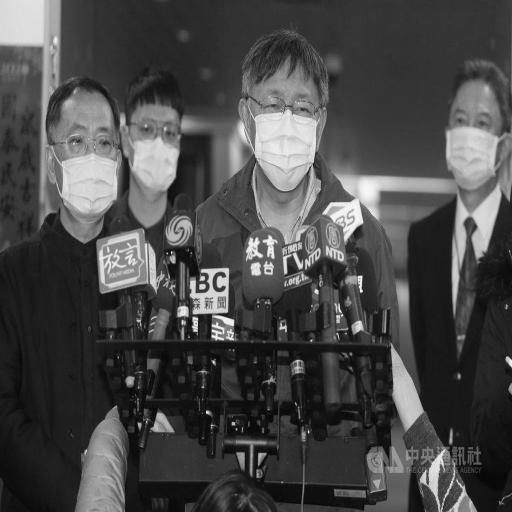mask: (234, 24, 334, 197), (40, 72, 126, 232), (432, 52, 510, 197), (118, 56, 186, 203)
